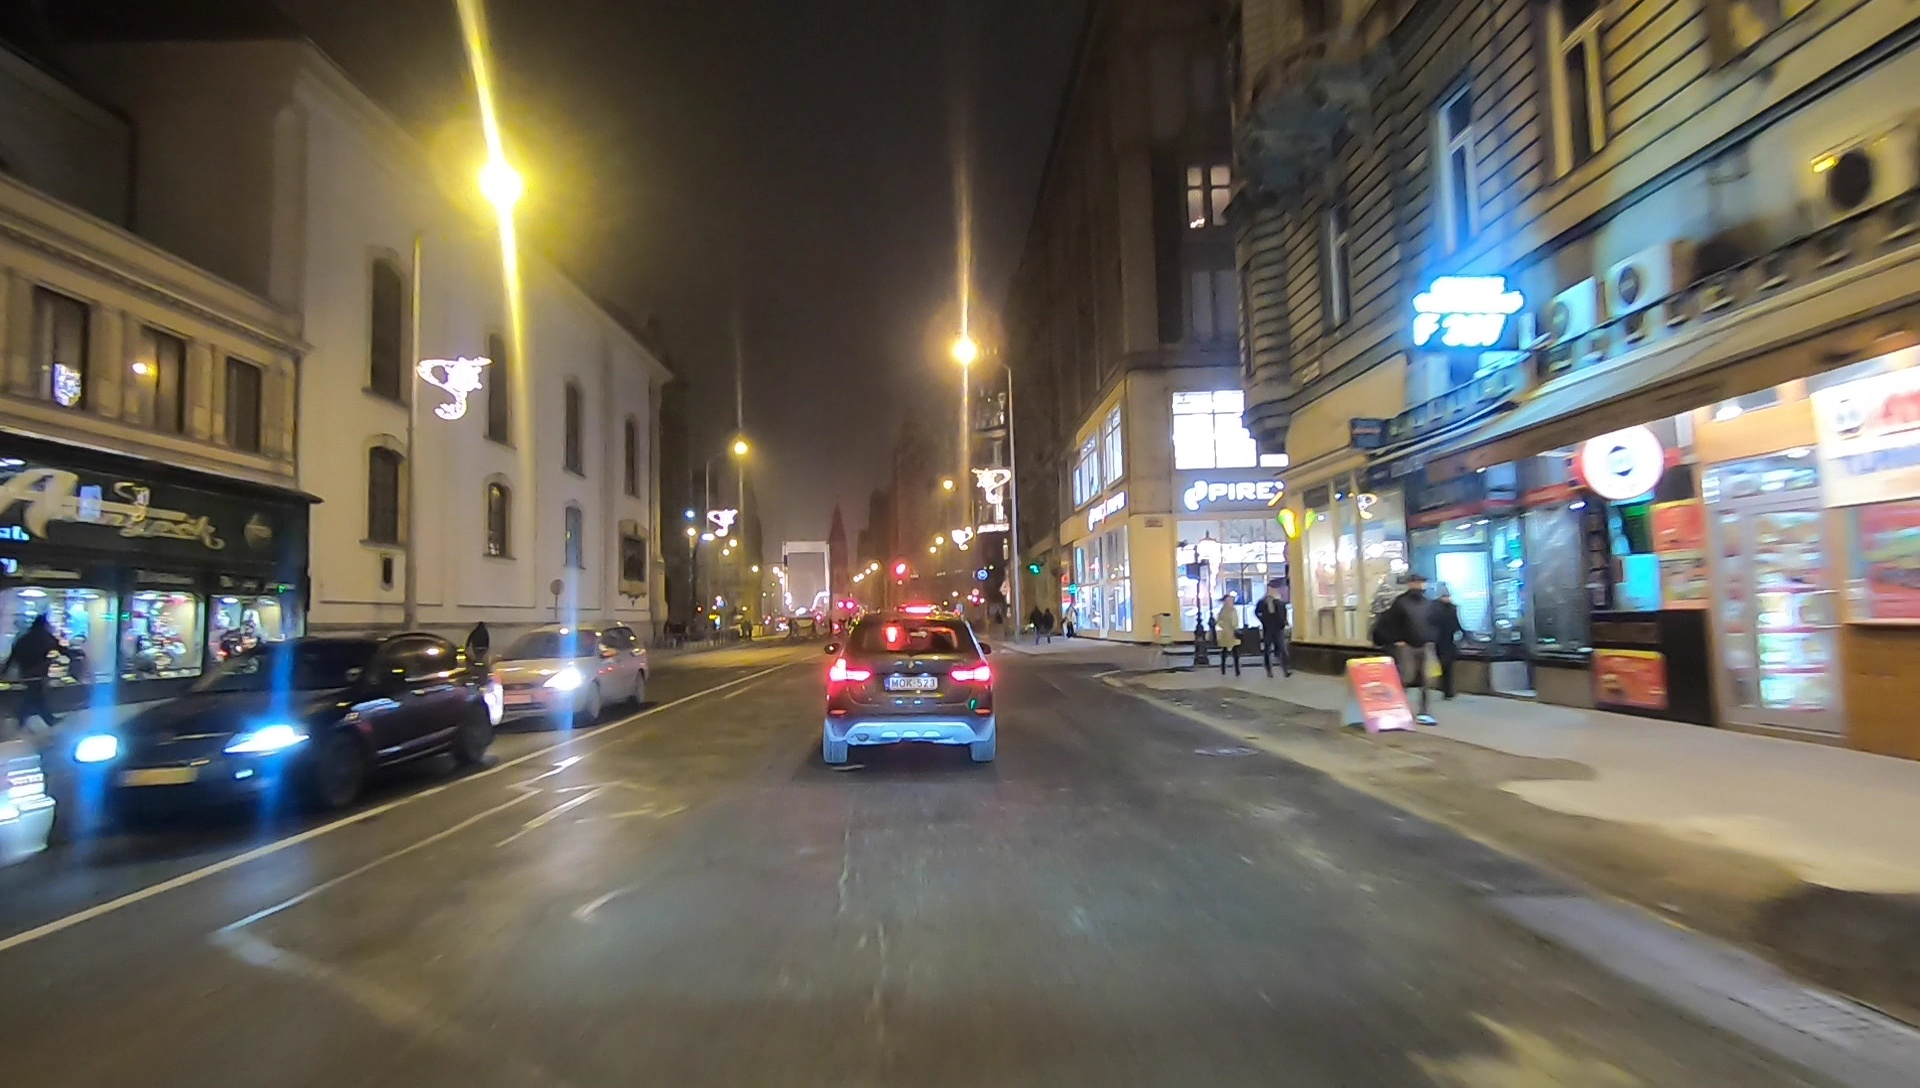person: (1391, 572, 1438, 730), (6, 613, 65, 736), (1256, 584, 1298, 679), (1429, 580, 1463, 698), (1217, 594, 1244, 679)
